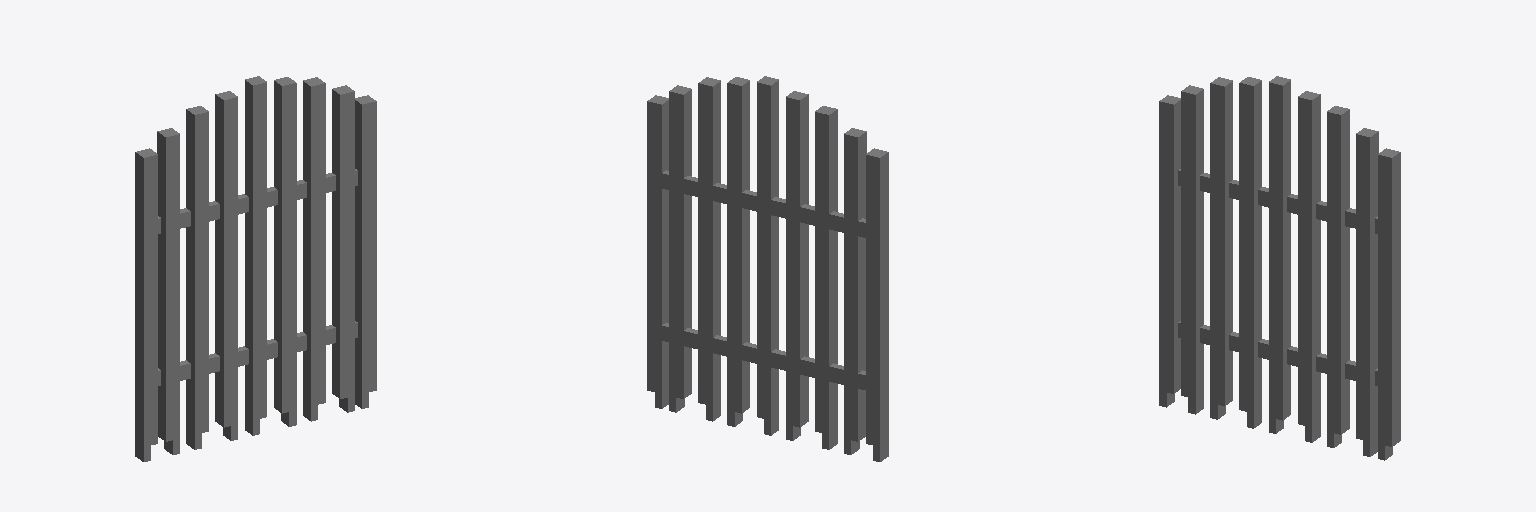
3 views of the same model, side by side, from view 1: azimuth 30°, elevation 25°; view 2: azimuth 150°, elevation 25°; view 3: azimuth 330°, elevation 25° (orthographic).
Visible parts, largest first — view 1: Wall_Entrance_Door_Medieval_Assets-38; view 2: Wall_Entrance_Door_Medieval_Assets-38; view 3: Wall_Entrance_Door_Medieval_Assets-38.
Part boxes in pixels (bbox=[...]): Wall_Entrance_Door_Medieval_Assets-38: bbox=[135, 76, 376, 461]; Wall_Entrance_Door_Medieval_Assets-38: bbox=[647, 76, 888, 461]; Wall_Entrance_Door_Medieval_Assets-38: bbox=[1159, 76, 1400, 460].
Size of the model in its own units: 3.2 by 4.6 by 0.2.
1 materials, 1 textured.